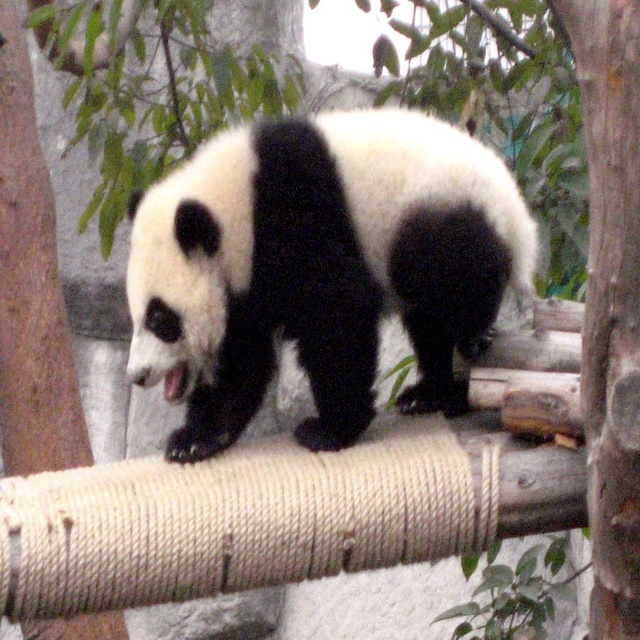Panda: (125, 110, 542, 463)
